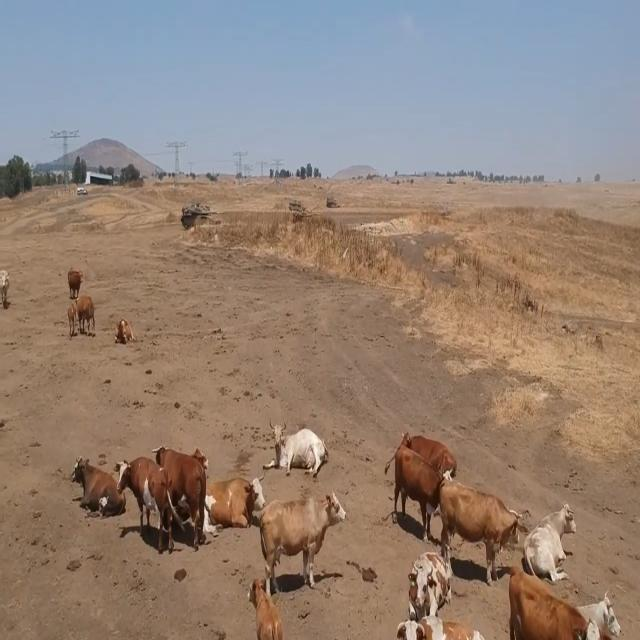tank: (174, 202, 224, 233), (323, 186, 338, 213), (288, 198, 306, 218)
